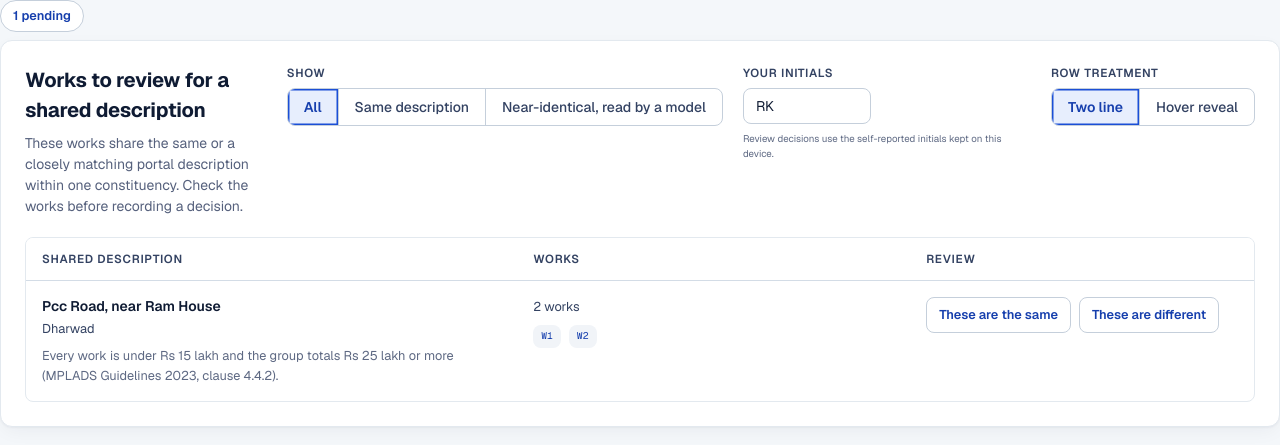
Test: DuplicateReviewQueue › the different action posts rejected_different
Step 1. Click the button "These are different" → (1149,315), box x1=1079 y1=297 x2=1219 y2=333
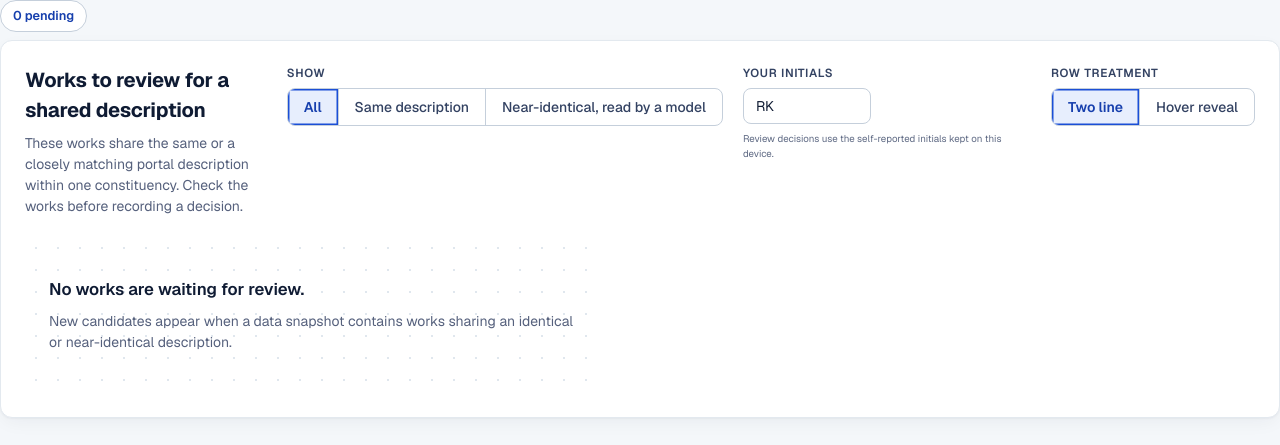
Expected: the text "No works are waiting for review." is shown, x1=49 y1=278 x2=304 y2=300
